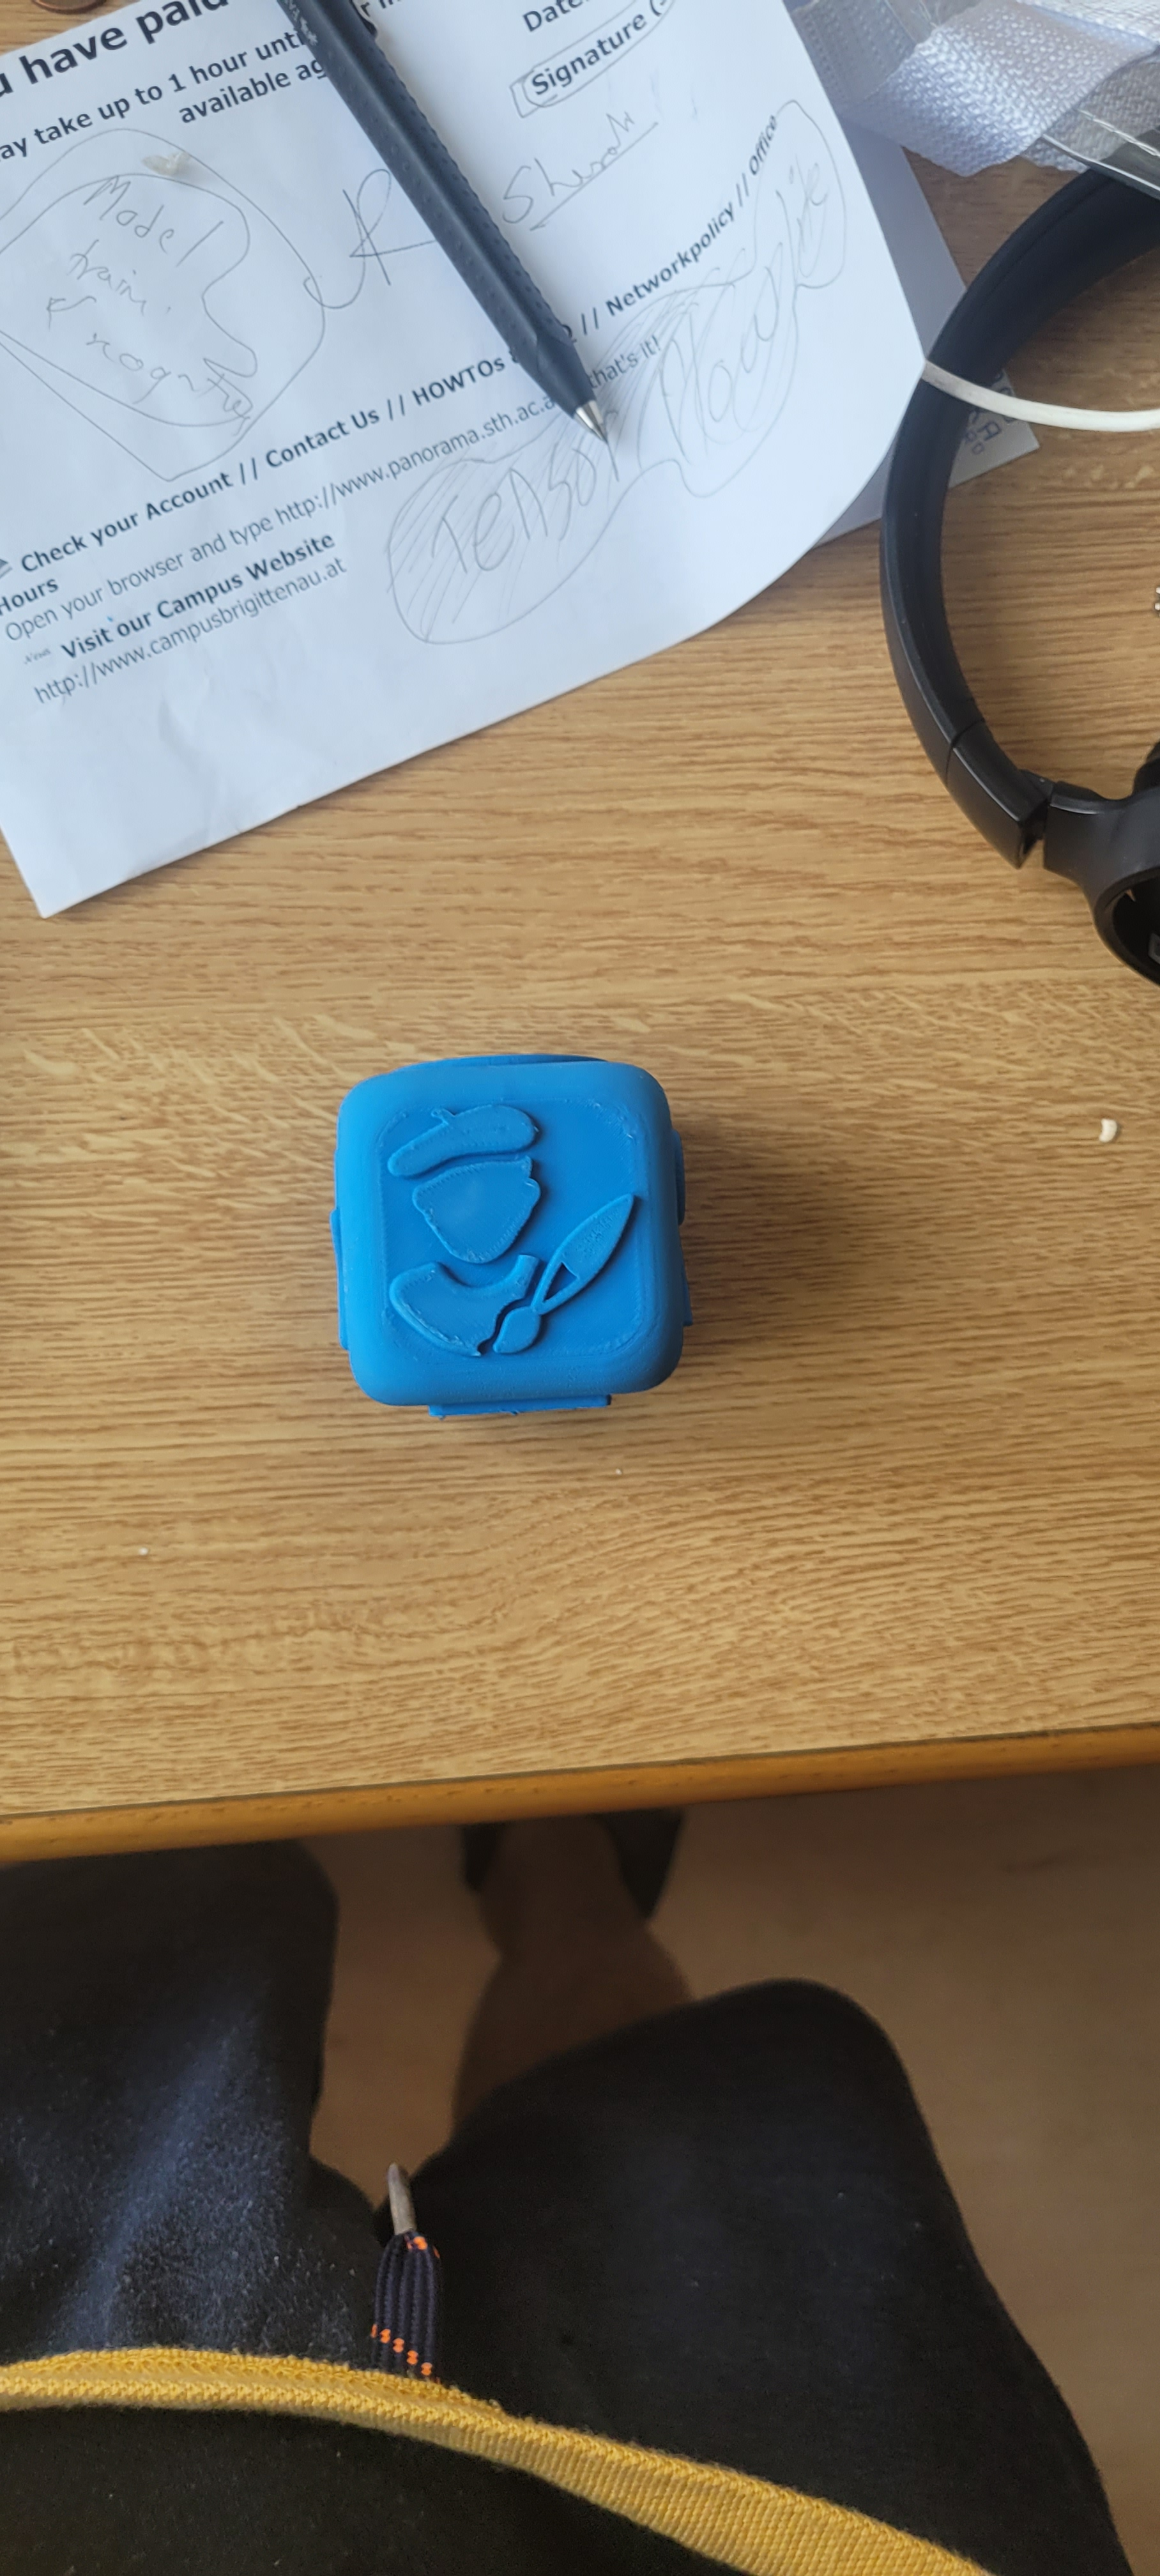Artist_Info: (340, 1007, 675, 1444), (595, 1418, 596, 1483)
